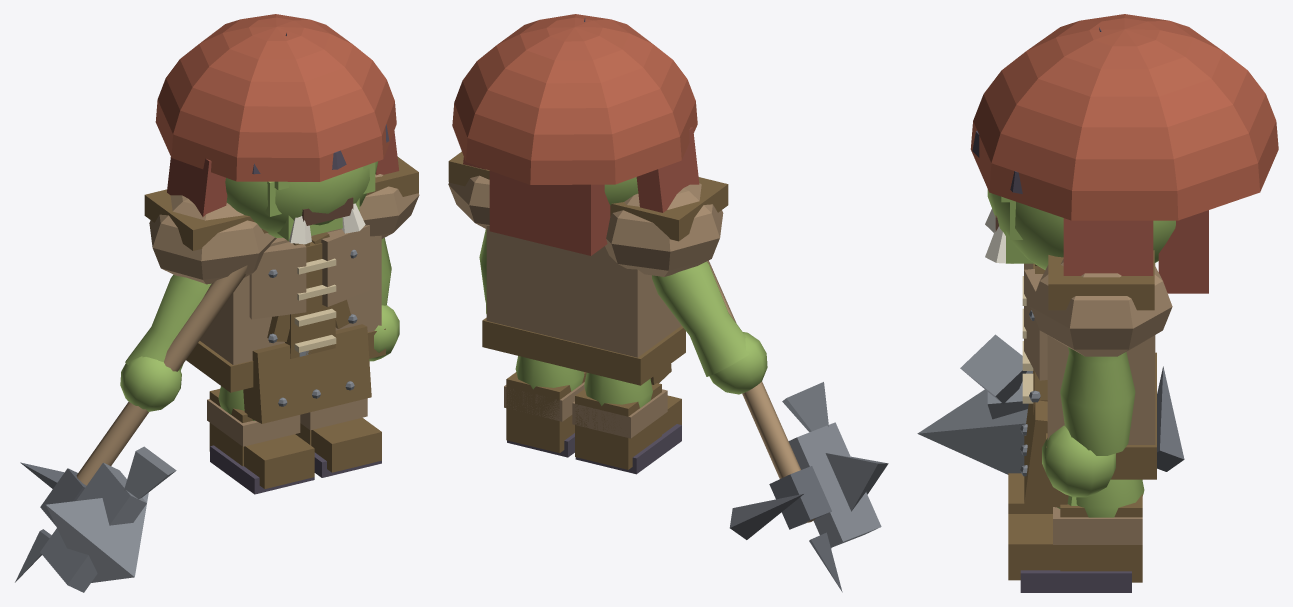
The model's file is cinder_warrior.glb.
3 renders of one model, left to right at view 1: azimuth 30°, elevation 25°; view 2: azimuth 150°, elevation 25°; view 3: azimuth 270°, elevation 25°, orthographic. The views are drawn at different scales.
Size of the model in its own units: 3.09 by 3.78 by 2.02.
